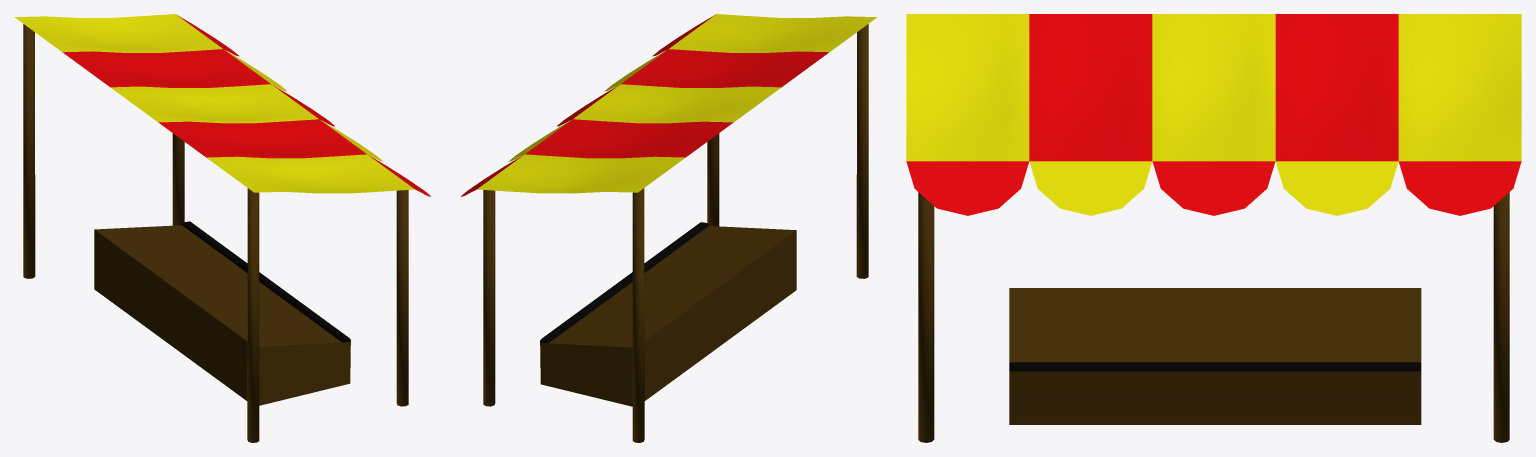
File: trader stall.fbx
3 renders of one model, left to right at view 1: azimuth 30°, elevation 25°; view 2: azimuth 150°, elevation 25°; view 3: azimuth 270°, elevation 25°, orthographic. The views are drawn at different scales.
Visible parts, largest first — view 1: Cube; view 2: Cube; view 3: Cube.
Part boxes in pixels (box(x1,y1,x2,y2)): Cube: box(14, 14, 430, 442); Cube: box(461, 14, 877, 442); Cube: box(906, 14, 1521, 442).
Bounding box in the file's own units: 467 × 587 × 1000.
